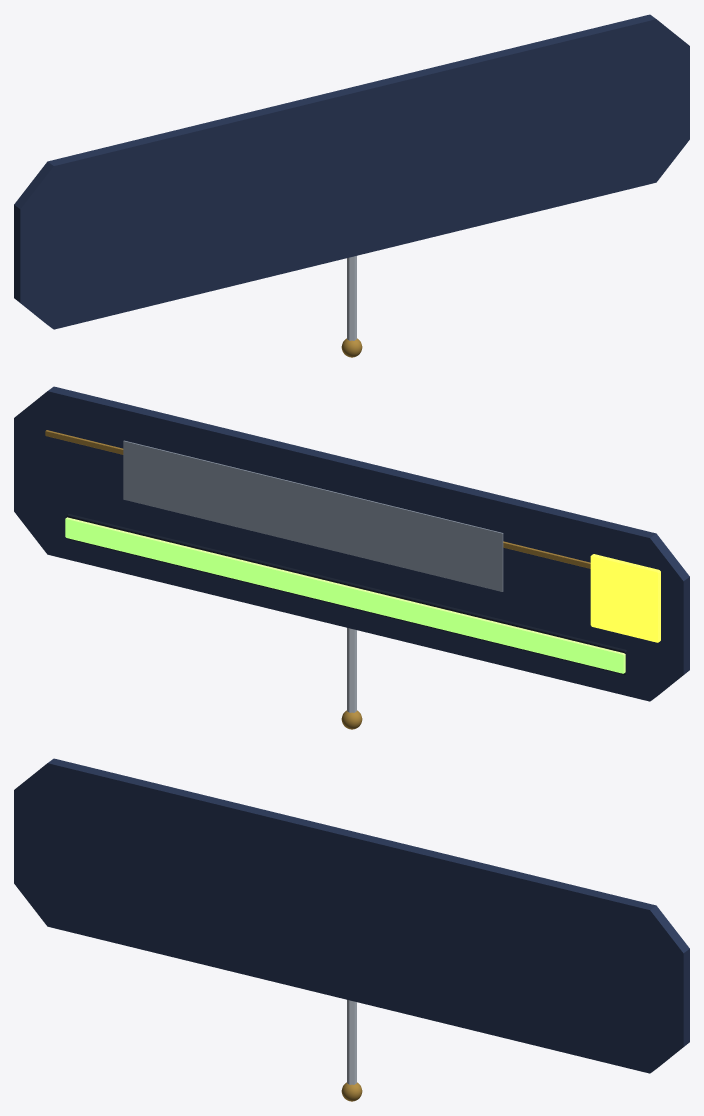
The model's file is ui_nameplate.glb.
3 renders of one model, top to bottom at view 1: azimuth 30°, elevation 25°; view 2: azimuth 150°, elevation 25°; view 3: azimuth 330°, elevation 25°, orthographic.
Visible parts, largest first — view 1: nameplate_plate, nameplate_pin; view 2: nameplate_plate, nameplate_text, nameplate_hp, nameplate_chip, nameplate_hp_track, nameplate_rule, nameplate_pin; view 3: nameplate_plate, nameplate_pin.
Part boxes in pixels (left/top/right/bottom): nameplate_plate: left=14, top=14, right=689, bottom=329; nameplate_pin: left=347, top=256, right=356, bottom=340; nameplate_plate: left=14, top=386, right=689, bottom=701; nameplate_text: left=123, top=440, right=503, bottom=591; nameplate_hp: left=65, top=517, right=625, bottom=673; nameplate_chip: left=590, top=554, right=660, bottom=642; nameplate_hp_track: left=66, top=514, right=626, bottom=675; nameplate_rule: left=45, top=430, right=590, bottom=568; nameplate_pin: left=347, top=628, right=356, bottom=712; nameplate_plate: left=14, top=758, right=689, bottom=1073; nameplate_pin: left=347, top=1000, right=356, bottom=1084.
Bounding box in the file's own units: 0.6 × 0.228 × 0.0195.
